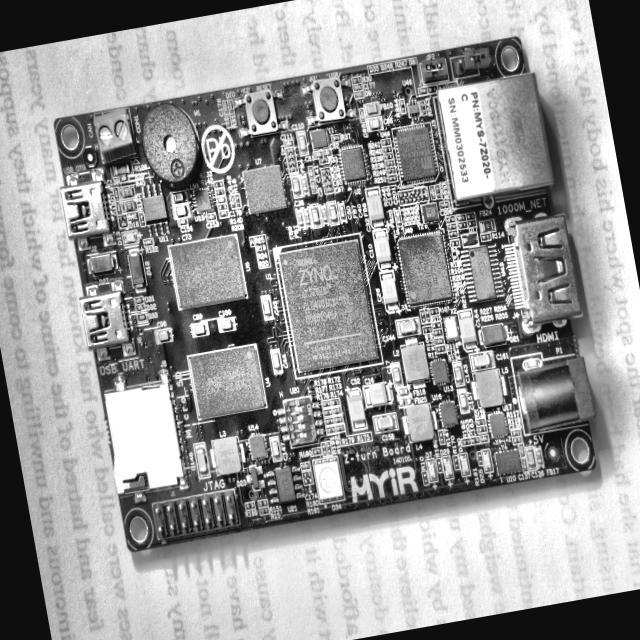PCB: (51, 32, 613, 563)
